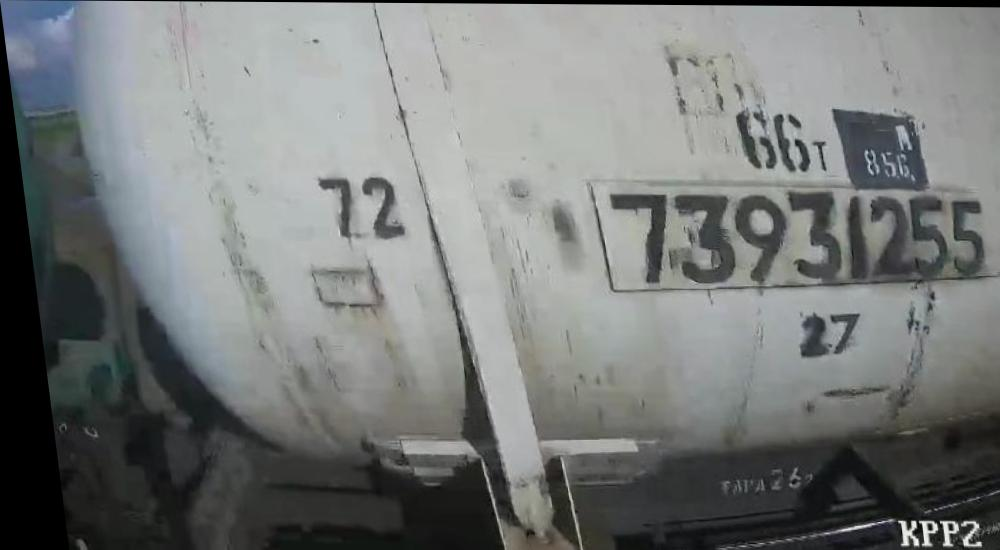Wagon-number: (598, 187, 988, 282)
